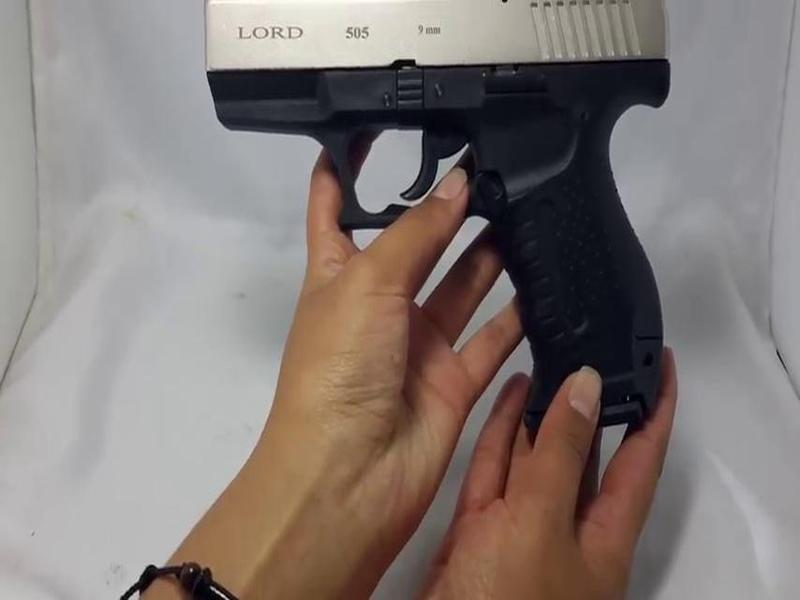Pistola: (189, 1, 723, 436)
